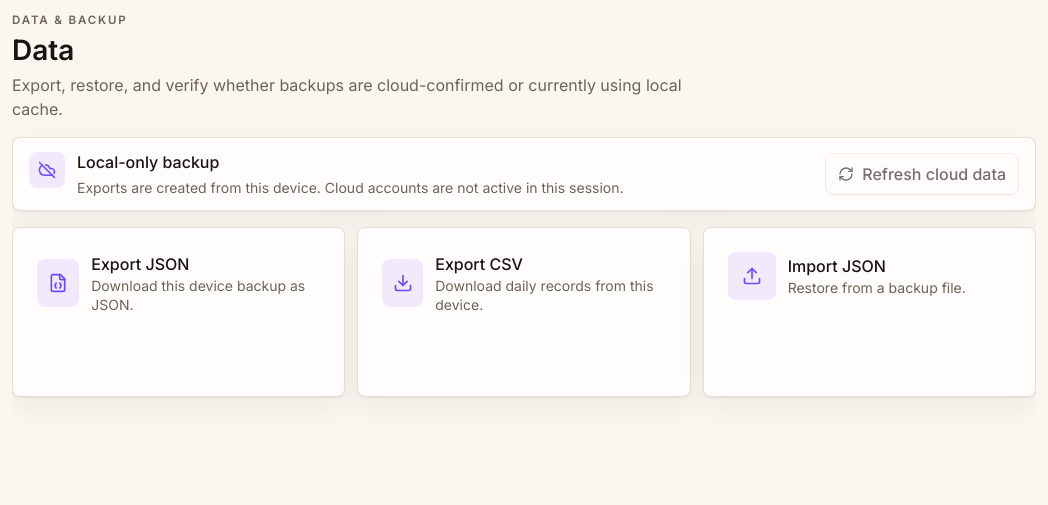
Scenario: DataScreen › exports JSON and shows a local-cache success message in local-only mode
Click the button "Export JSON": {"x": 58, "y": 283} [12,227,345,397]
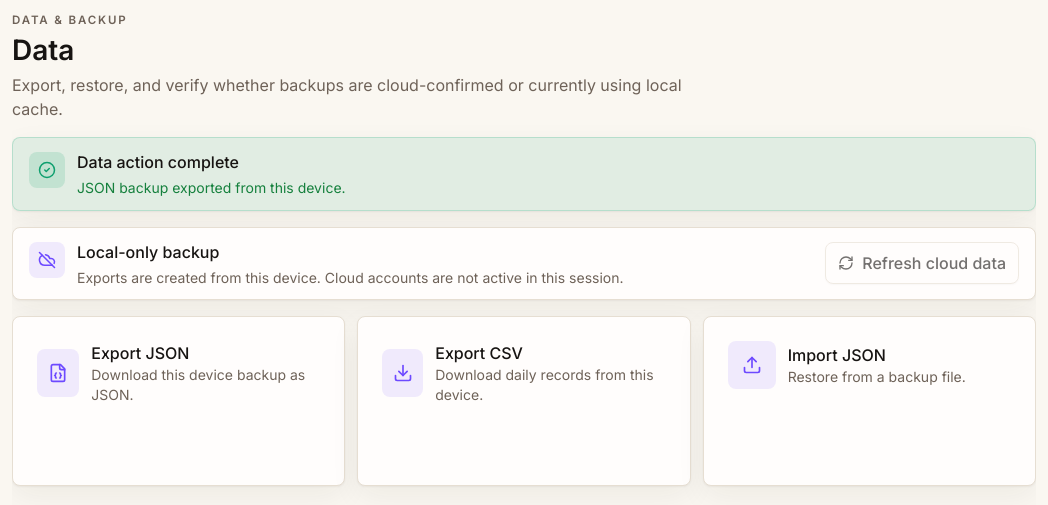
Expected: the text "JSON backup exported from this device." is shown, [77,178,346,198]
